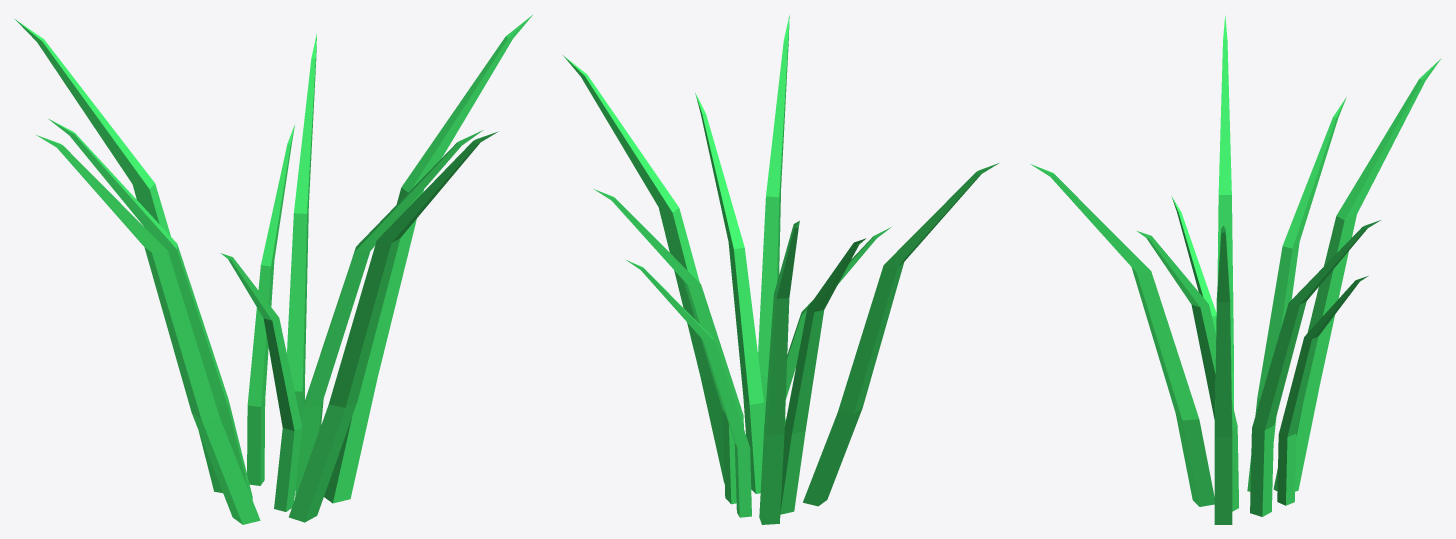
Rendered from Grama.fbx.
The picture shows the model from 3 angles, left to right: view 1: azimuth 30°, elevation 25°; view 2: azimuth 150°, elevation 25°; view 3: azimuth 270°, elevation 25°; orthographic projection. The views are drawn at different scales.
Parts seen in each view (by area): view 1: Grama; view 2: Grama; view 3: Grama.
Boxes of the visible parts, x1,y1,x2,y2 form: Grama: (15, 15, 532, 524); Grama: (563, 15, 998, 524); Grama: (1030, 15, 1441, 524).
Bounding box in the file's own units: 0.5616 × 0.4698 × 0.4629.
